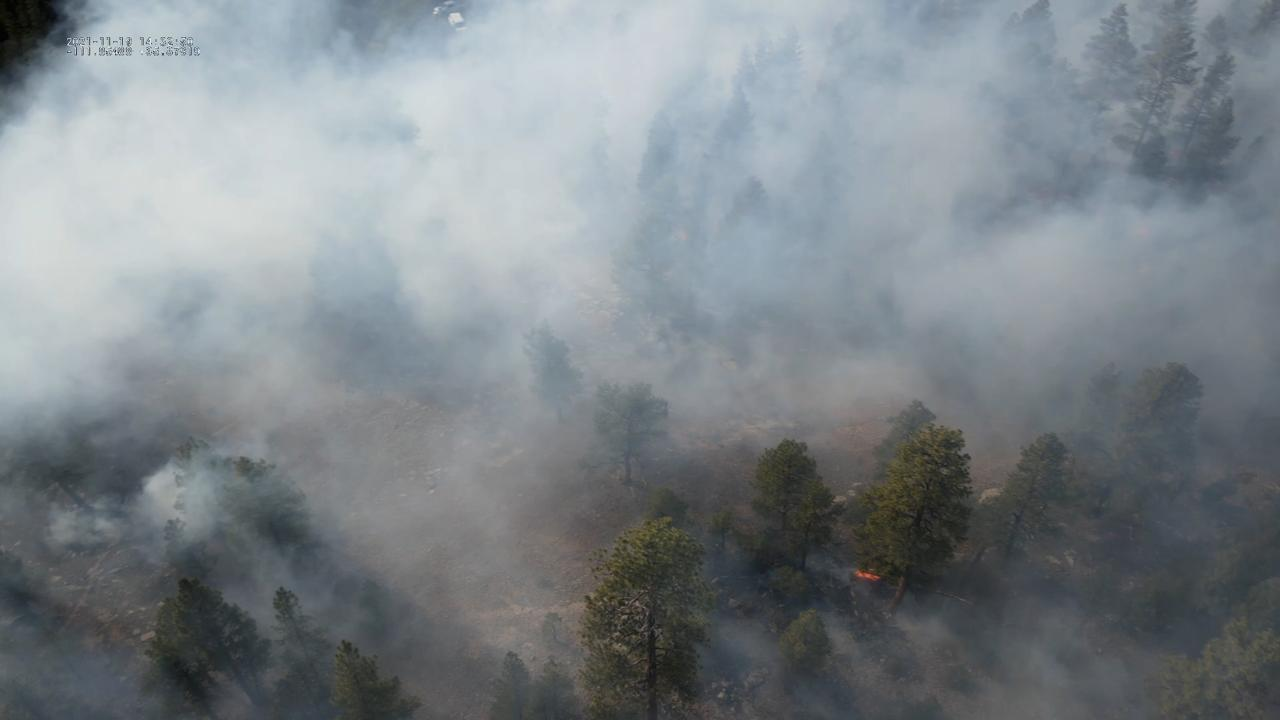fire: (853, 569, 882, 582)
smoke: (0, 0, 1280, 720)
